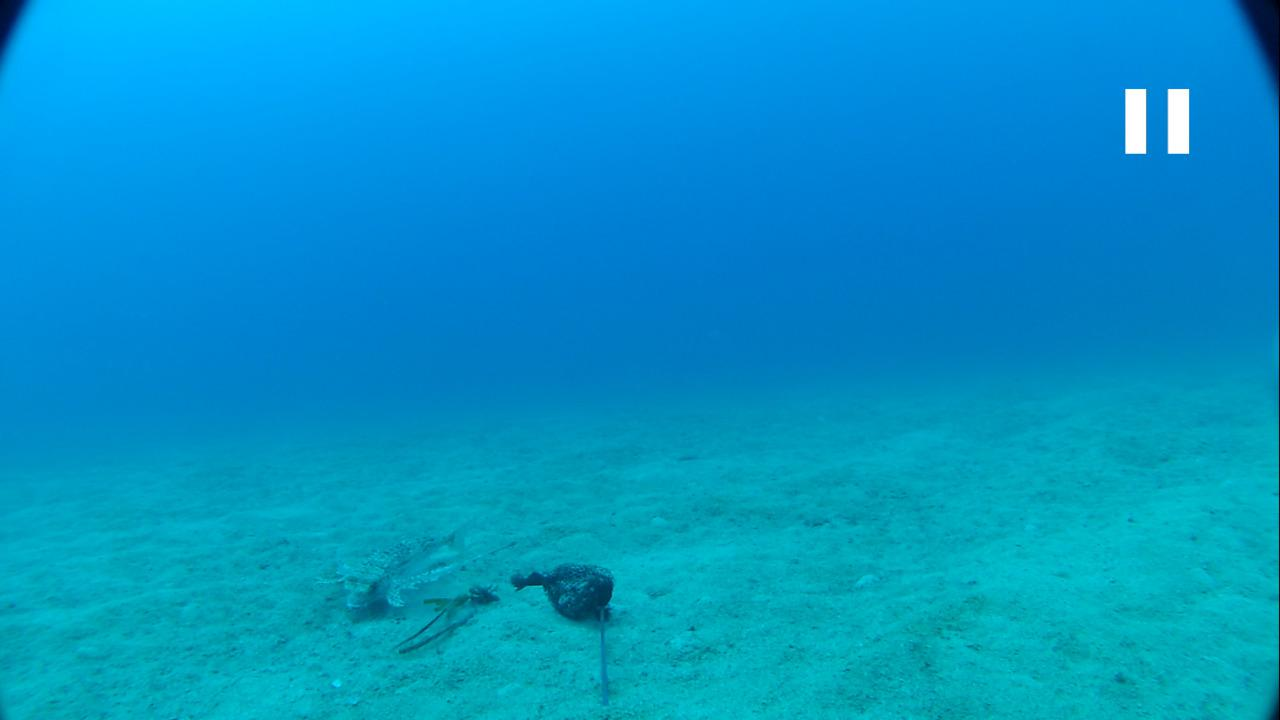dactylopterus: (306, 521, 482, 618)
